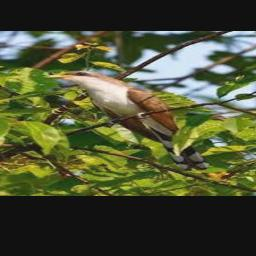Cuckoo: (44, 70, 210, 171)
